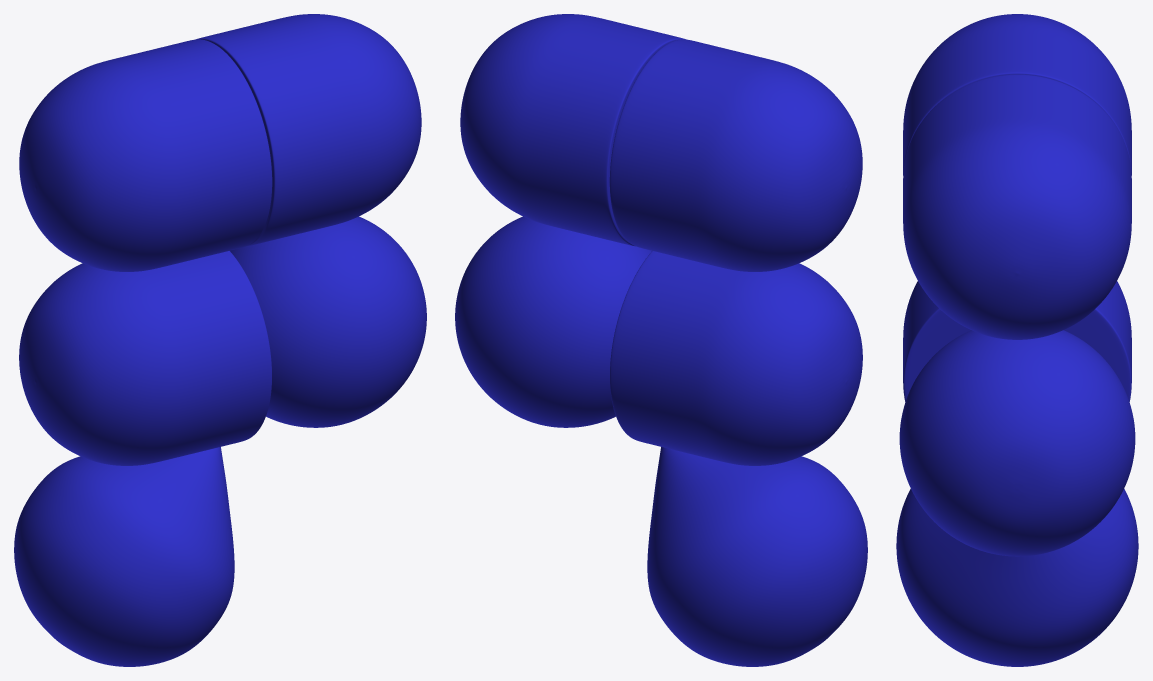
The model's file is figma.fbx.glb.
The picture shows the model from 3 angles, left to right: view 1: azimuth 30°, elevation 25°; view 2: azimuth 150°, elevation 25°; view 3: azimuth 270°, elevation 25°; orthographic projection. The views are drawn at different scales.
Parts seen in each view (by area): view 1: Cylinder.006; view 2: Cylinder.006; view 3: Cylinder.006.
Part boxes in pixels (x1,y1,x2,y2): Cylinder.006: (14, 14, 426, 666); Cylinder.006: (455, 14, 867, 666); Cylinder.006: (896, 14, 1138, 666).
Bounding box in the file's own units: 1.3 × 1.91 × 0.6666.
